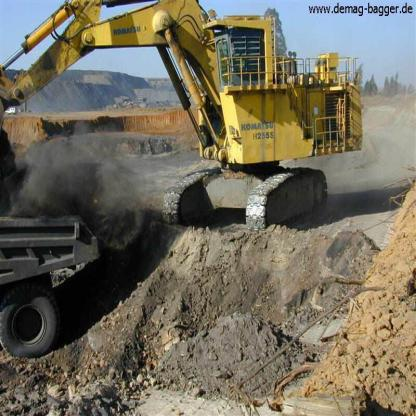dump_truck: (0, 208, 110, 365)
excavator: (3, 1, 364, 233)
